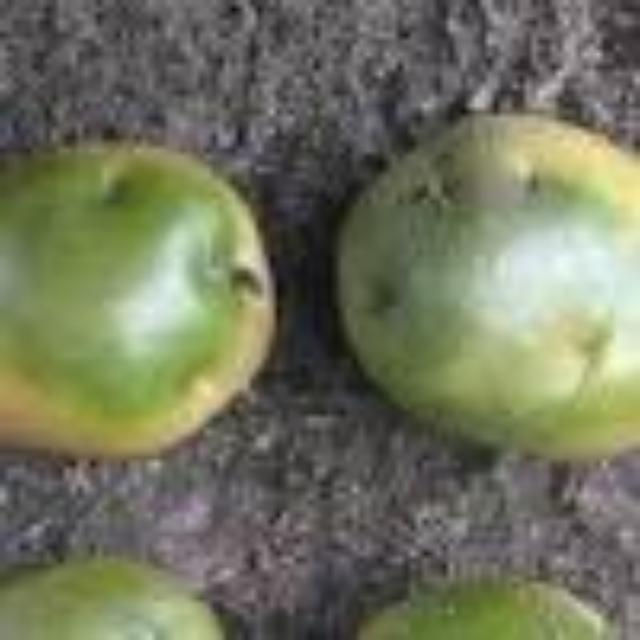Defected potato: (330, 110, 640, 470), (1, 121, 278, 473)
